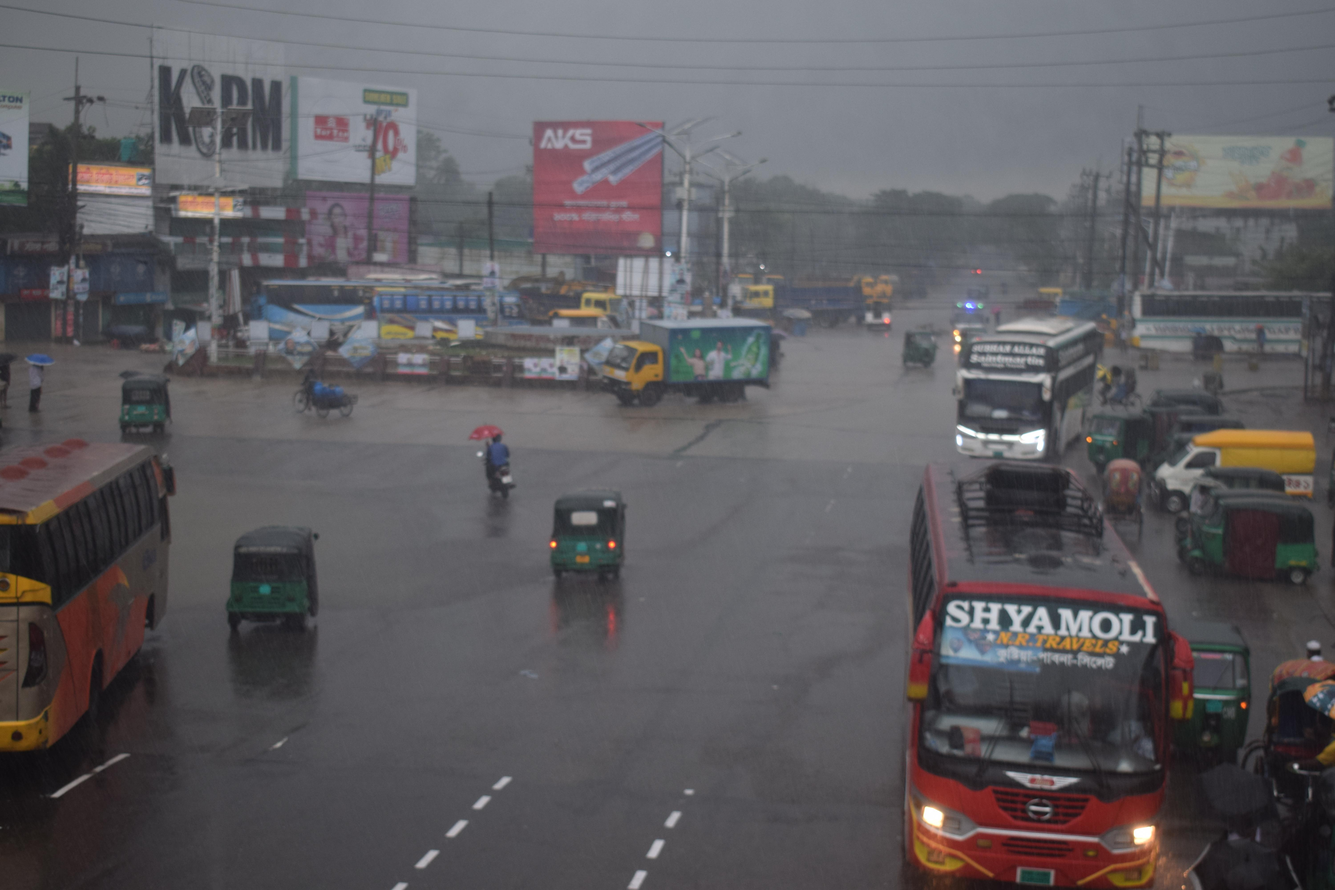Bus: (833, 452, 1206, 890), (0, 417, 210, 775), (928, 278, 1118, 487), (1104, 253, 1335, 378), (235, 245, 423, 388), (359, 249, 552, 378)
Truck: (556, 295, 807, 430), (711, 260, 869, 346)
